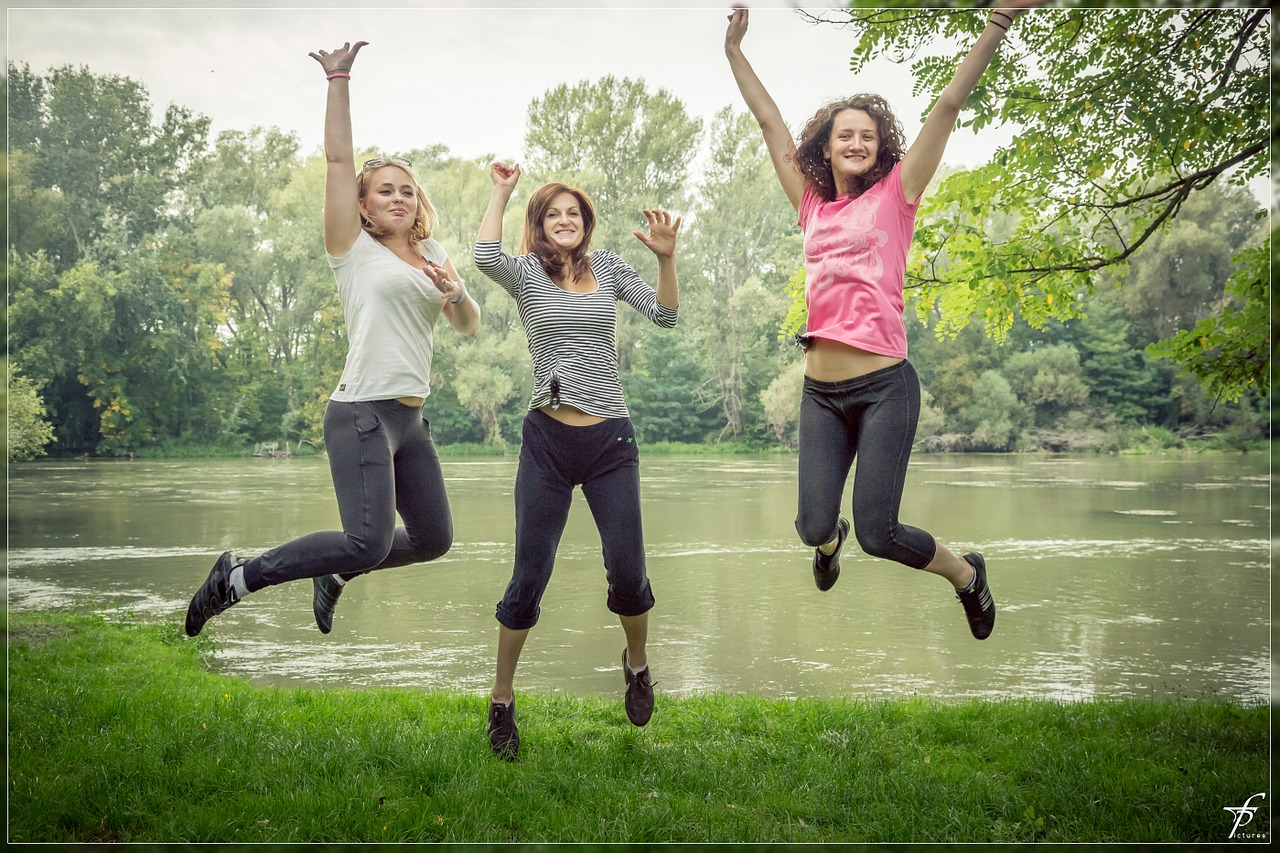without_mask: (373, 181, 414, 230), (833, 127, 876, 168), (546, 204, 581, 242)
